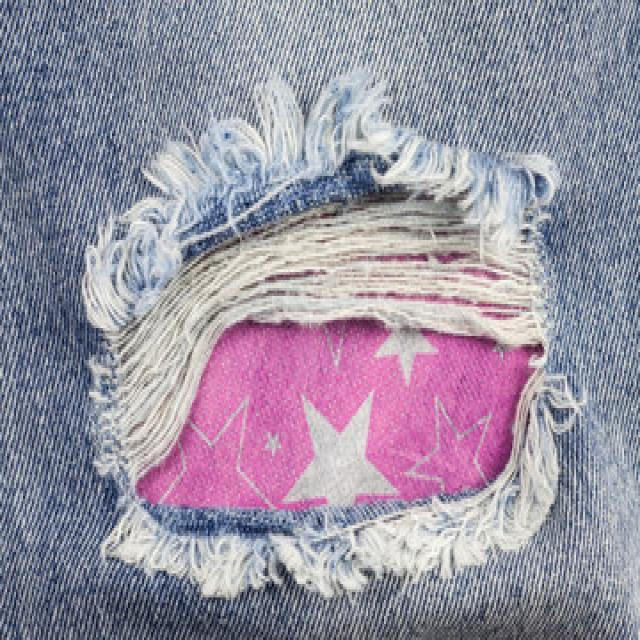Hole: (82, 73, 580, 598)
